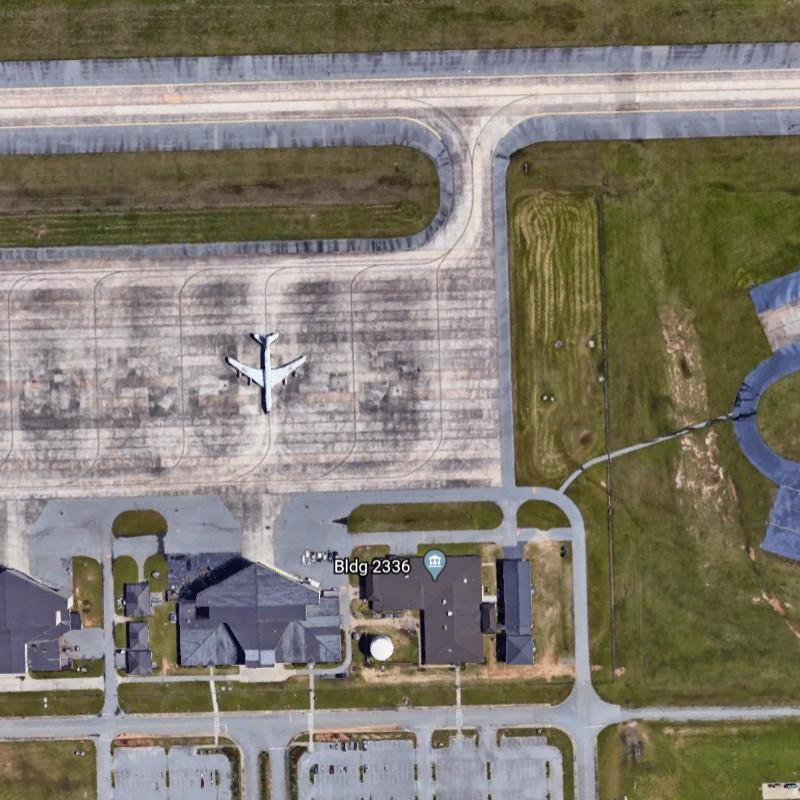A11: (214, 315, 321, 416)
